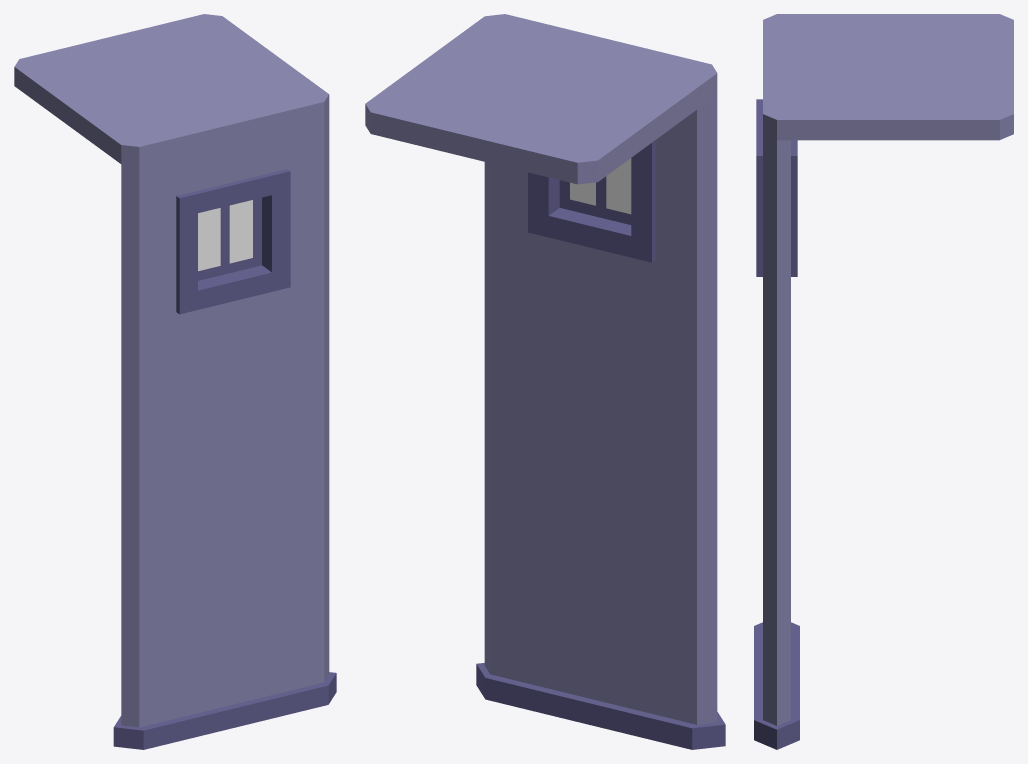
3 views of the same model, side by side, from view 1: azimuth 30°, elevation 25°; view 2: azimuth 150°, elevation 25°; view 3: azimuth 270°, elevation 25° (orthographic). The views are drawn at different scales.
Parts seen in each view (by area): view 1: wall_border, window_squareGlass, wall, roof_flat; view 2: wall_border, wall, roof_flat, window_squareGlass; view 3: roof_flat, wall_border, window_squareGlass, wall.
Part boxes in pixels (<box>): wall_border: <box>113,501,336,749</box>; window_squareGlass: <box>121,114,329,359</box>; wall: <box>121,307,329,553</box>; roof_flat: <box>14,14,329,166</box>; wall_border: <box>476,471,725,749</box>; wall: <box>484,255,717,529</box>; roof_flat: <box>365,14,717,184</box>; window_squareGlass: <box>484,95,717,313</box>; roof_flat: <box>763,14,1013,140</box>; wall_border: <box>754,538,799,749</box>; window_squareGlass: <box>756,99,797,341</box>; wall: <box>763,336,790,543</box>.
Bounding box in the file's own units: 1.2 × 3.1 × 1.16.
